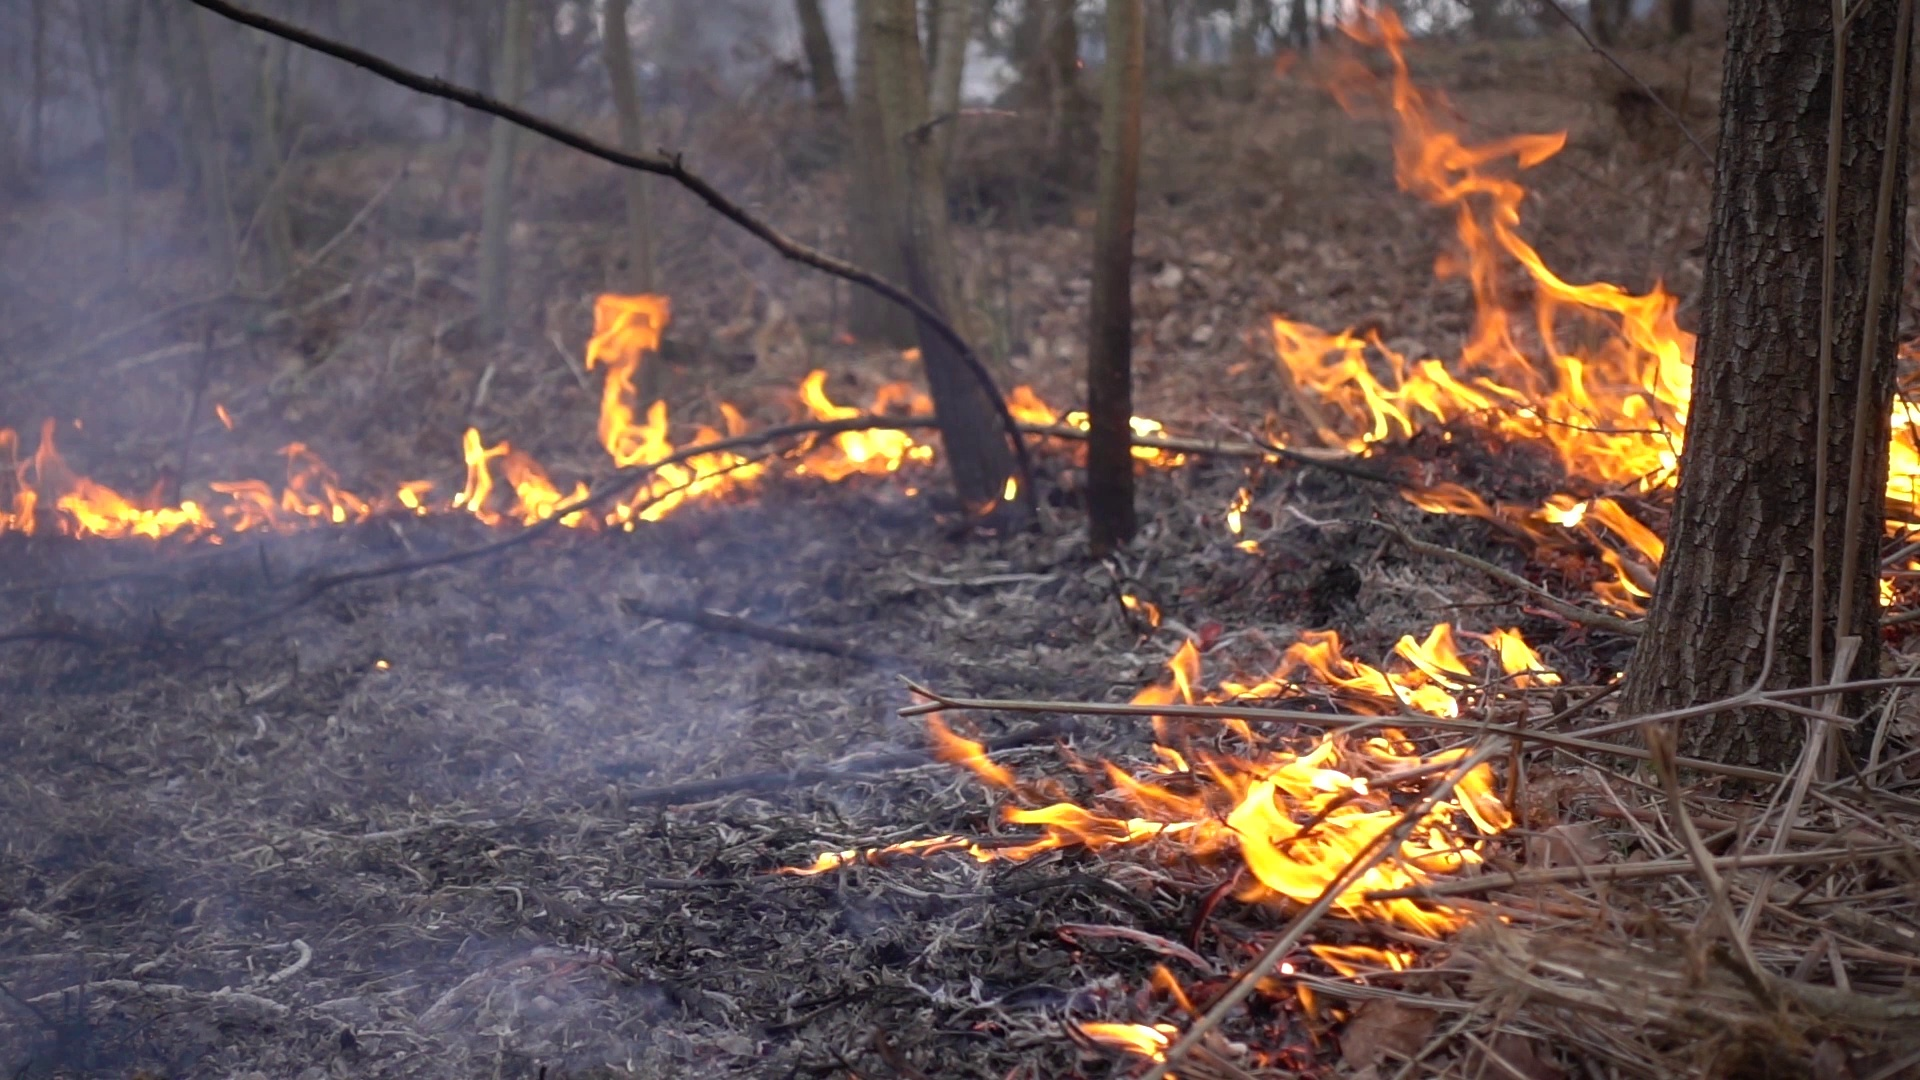fire: (963, 621, 1556, 992), (1269, 145, 1695, 589), (584, 295, 766, 526), (1, 459, 360, 535), (455, 436, 592, 531), (799, 378, 924, 479), (1888, 407, 1920, 512), (1131, 411, 1163, 468)
